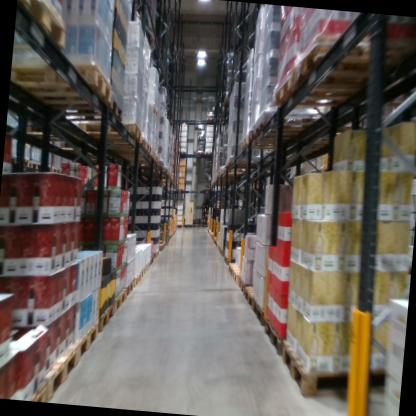pallet: (278, 333, 392, 409), (269, 69, 411, 127), (9, 49, 118, 121), (283, 38, 395, 93), (30, 84, 127, 139), (252, 106, 334, 148), (13, 106, 81, 152), (14, 0, 72, 53), (43, 342, 81, 404), (90, 114, 144, 145), (240, 129, 298, 157), (247, 120, 294, 150), (74, 316, 100, 368), (94, 130, 149, 154), (263, 312, 285, 353), (93, 297, 115, 336), (216, 164, 262, 182), (117, 137, 154, 157), (222, 159, 271, 174), (251, 296, 267, 329), (124, 151, 161, 165), (111, 285, 128, 315), (30, 378, 49, 402), (243, 284, 259, 310), (13, 151, 32, 168), (143, 97, 159, 116), (124, 277, 136, 298), (232, 268, 245, 287), (143, 158, 164, 169), (228, 260, 240, 279), (28, 158, 44, 172), (131, 271, 142, 290), (223, 254, 239, 267), (238, 276, 248, 296), (41, 161, 54, 174), (137, 265, 147, 281), (50, 165, 60, 177), (143, 260, 151, 274), (149, 145, 156, 161), (151, 249, 160, 259), (183, 222, 193, 231), (202, 186, 213, 194), (205, 116, 216, 123), (175, 186, 186, 193), (192, 222, 202, 229), (148, 255, 154, 266), (205, 150, 214, 157), (179, 149, 187, 156), (175, 223, 183, 230), (196, 149, 205, 155), (200, 222, 209, 227)
